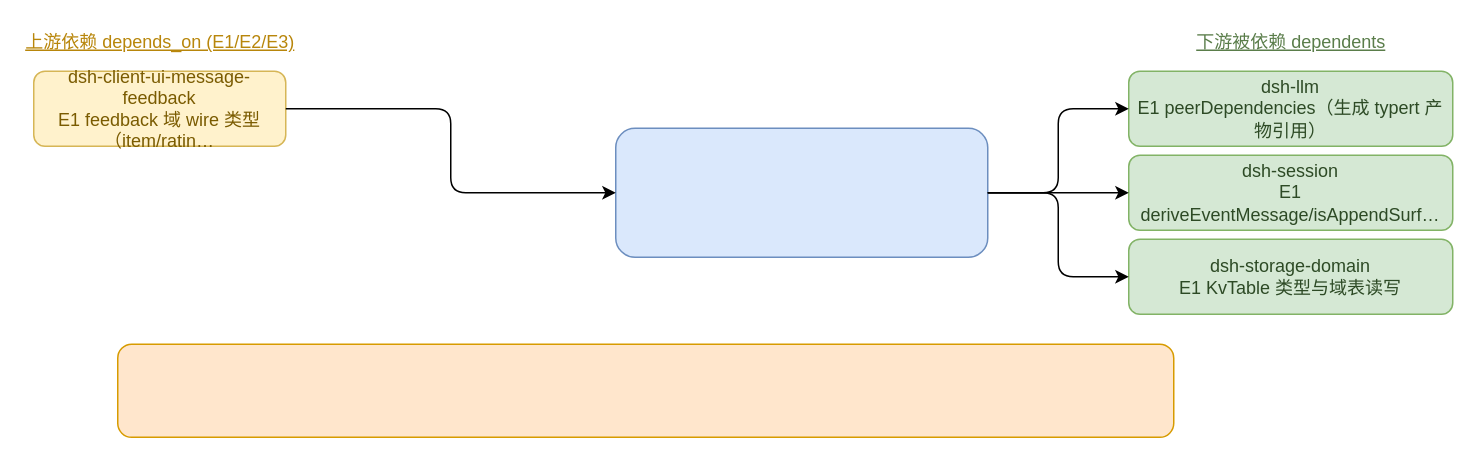
Some shapes in this 1479 by 464 pixel diagram are drawn without their labels. Each missing label, with the centre of its shape:
dsh-message-feedback @deepseek-ai/dsh-message-feedback: the point at 801,192
provides 关键项 • ctx.messageFeedback 服务 • messageFeedback Typert Remote（list/…: the point at 645,390
